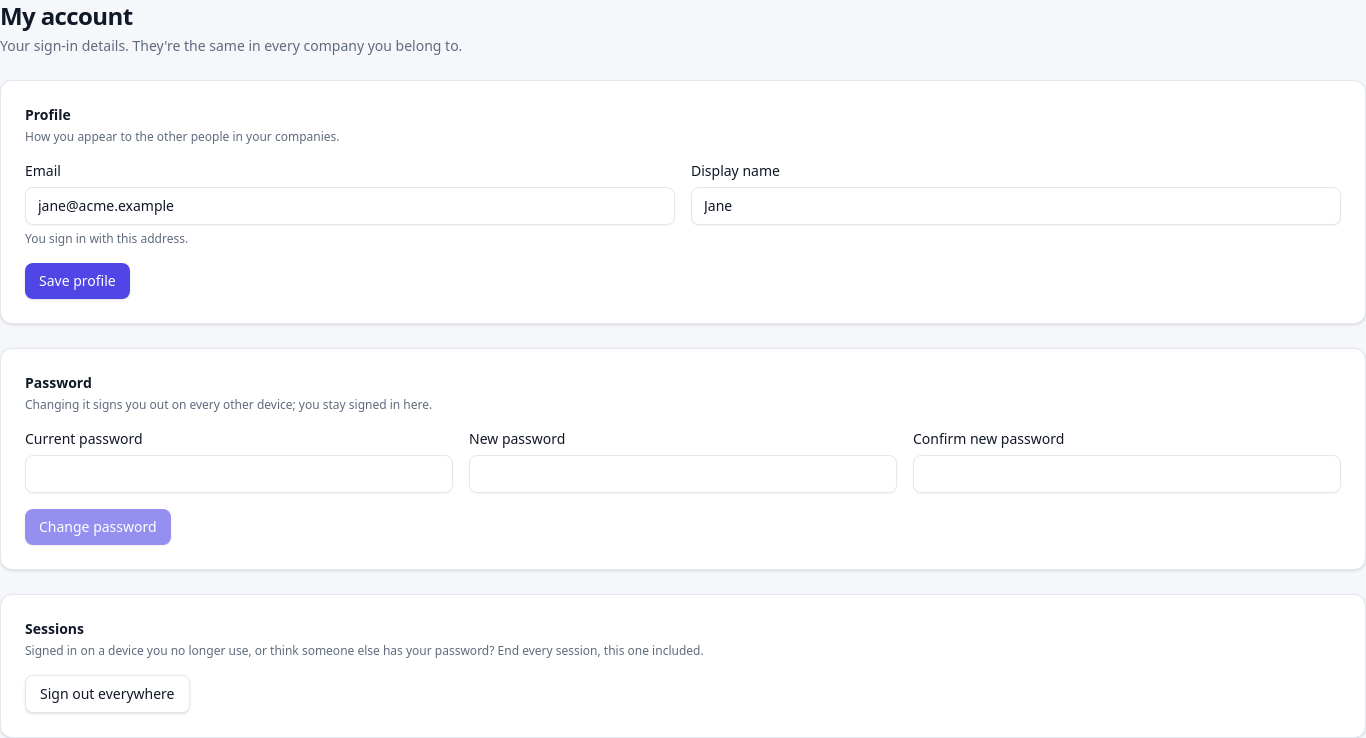
Scenario: AccountPage › shows the sign-in email and saves the display name
The image size is (1366, 738).
Expected: the field labelled "Email" holds "jane@acme.example", [25, 187, 675, 225]
Replace the text in the field labelled "Display name" with "  Jane Doe " at (1016, 206), box [691, 187, 1341, 225]
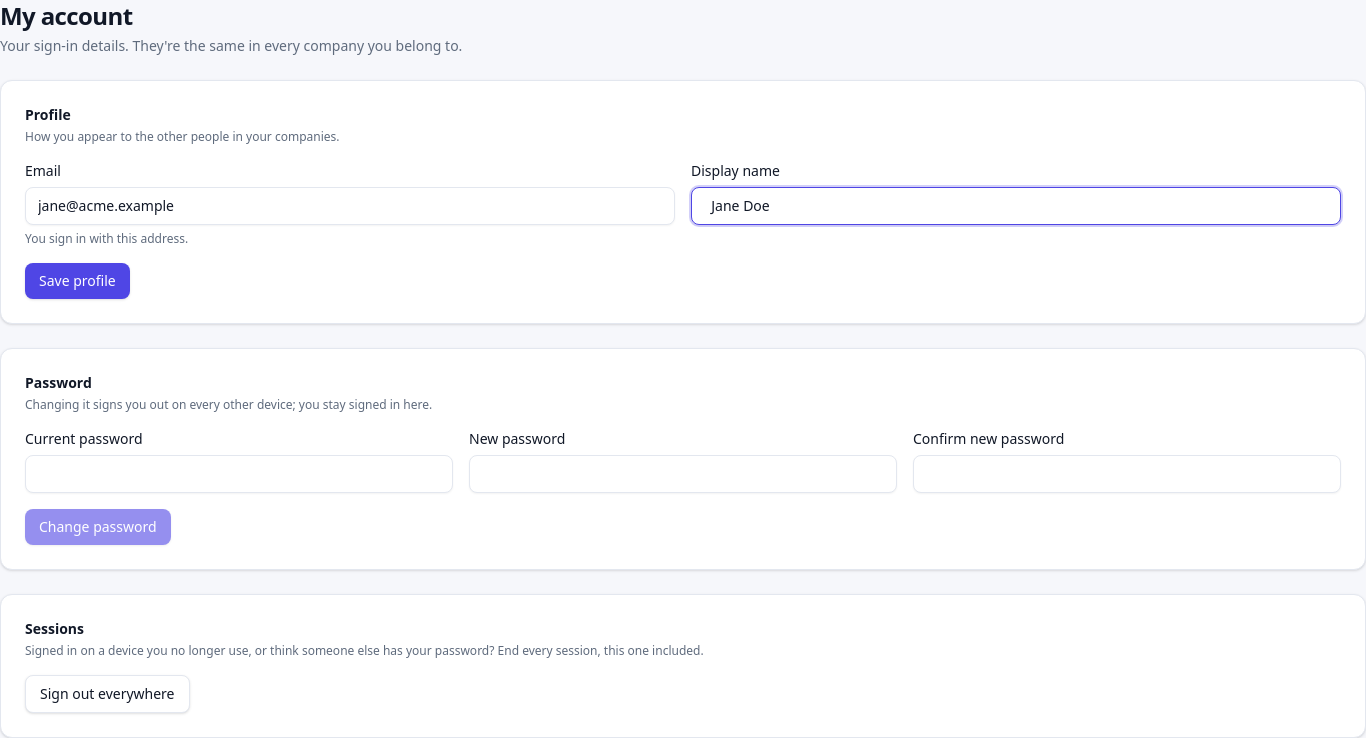
Click the button "Save profile" at (77, 281), box [25, 263, 130, 299]
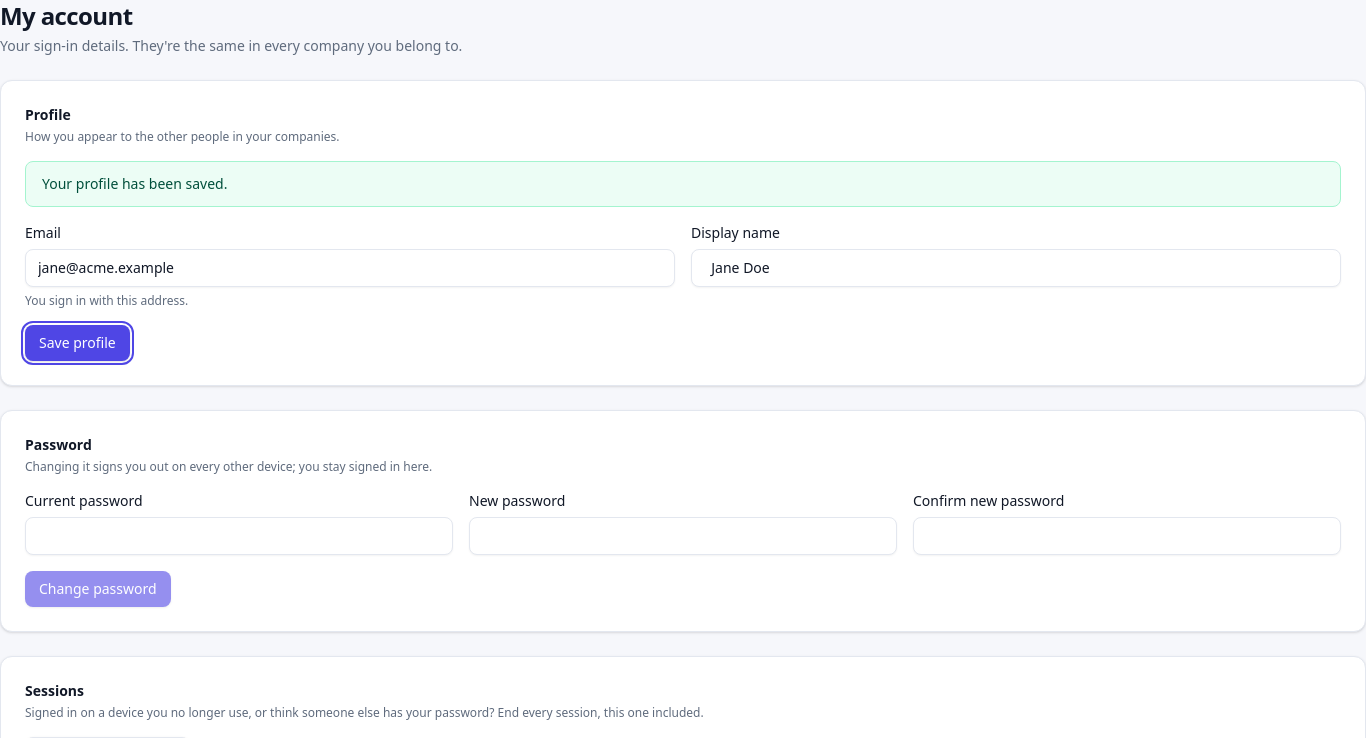
Expected: the text "Your profile has been saved." is shown, [25, 161, 1341, 207]
